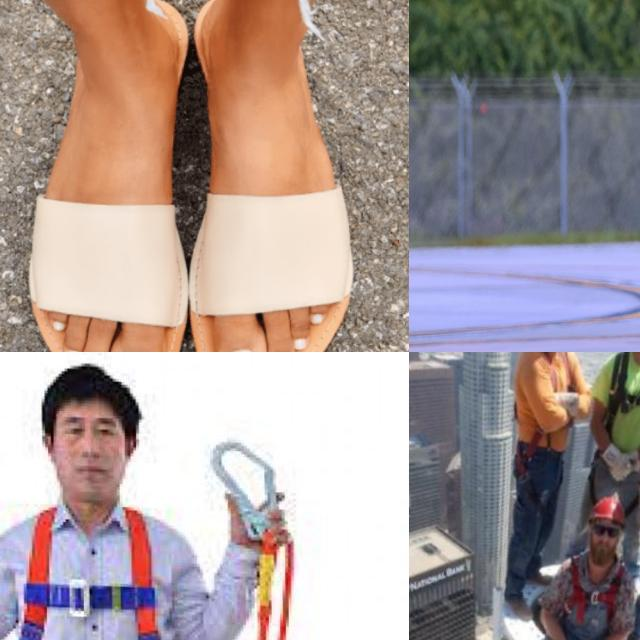Harness: (21, 503, 165, 640), (606, 352, 640, 441)
Sandals: (192, 0, 353, 352), (32, 0, 190, 352)
